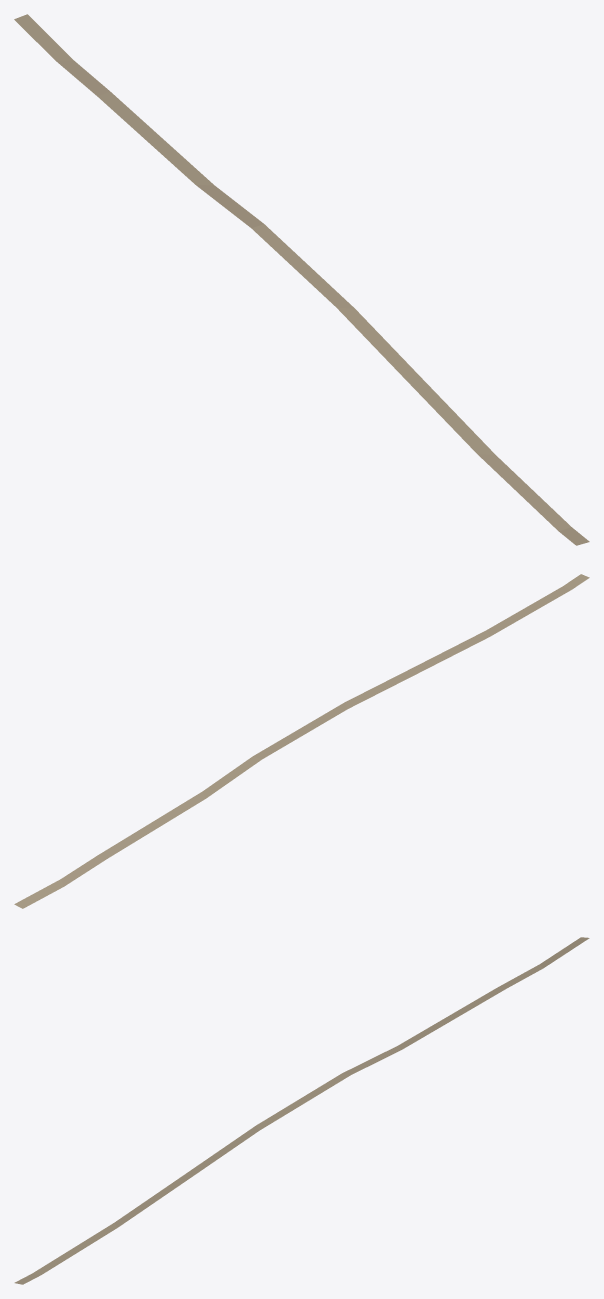
The model's file is farm_-31_-31_track.glb.
3 views of the same model, one above another, from view 1: azimuth 30°, elevation 25°; view 2: azimuth 150°, elevation 25°; view 3: azimuth 330°, elevation 25° (orthographic). The views are drawn at different scales.
Parts seen in each view (by area): view 1: geometry_0; view 2: geometry_0; view 3: geometry_0.
Boxes of the visible parts, x1,y1,x2,y2 form: geometry_0: (14, 14, 589, 545); geometry_0: (14, 574, 589, 908); geometry_0: (14, 937, 589, 1284).
Bounding box in the file's own units: 30.37 × 5.28 × 293.
